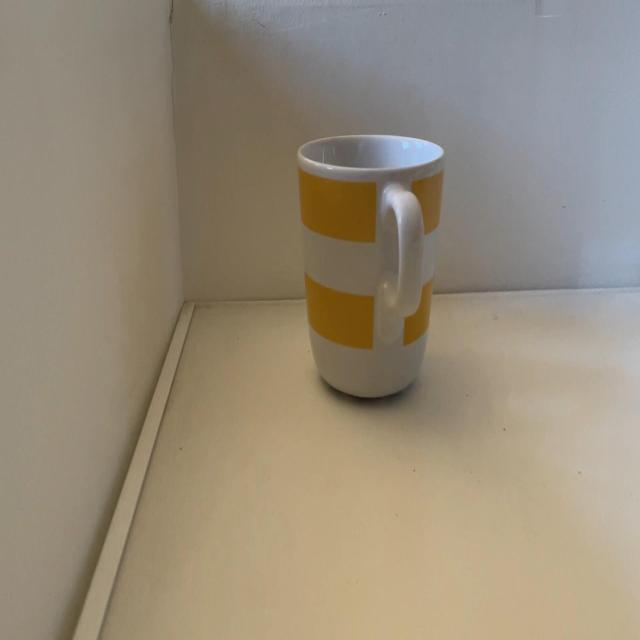cup: (298, 135, 448, 401)
